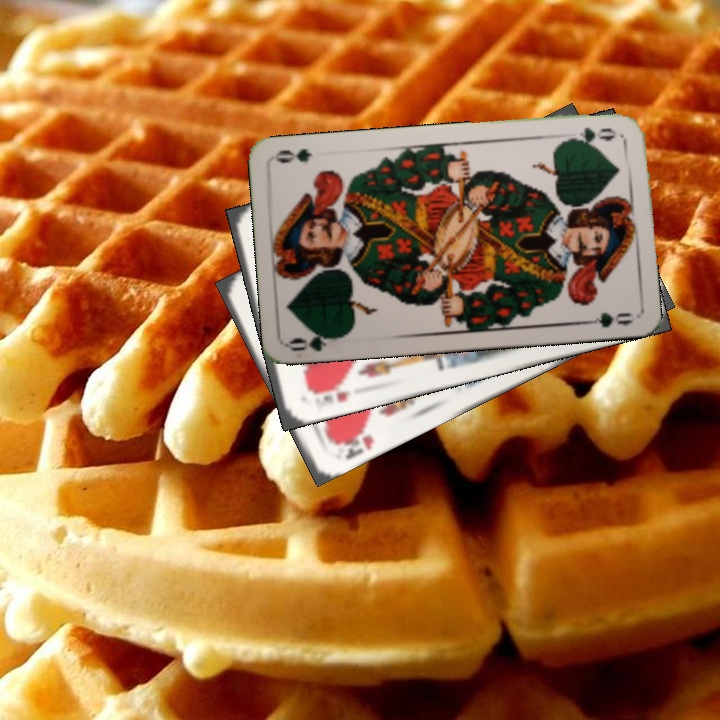GO: (287, 327, 346, 354), (562, 123, 619, 147)
HK: (329, 422, 377, 463), (303, 379, 354, 406)
